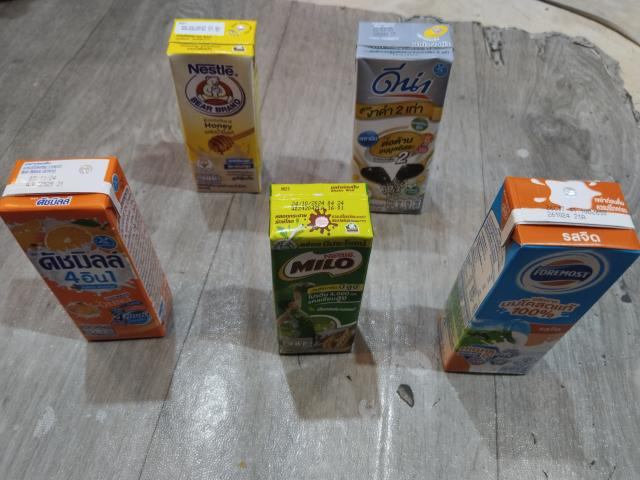drink_box: (407, 161, 640, 410), (0, 149, 175, 353), (351, 13, 458, 220), (156, 14, 268, 201), (265, 179, 368, 362)
